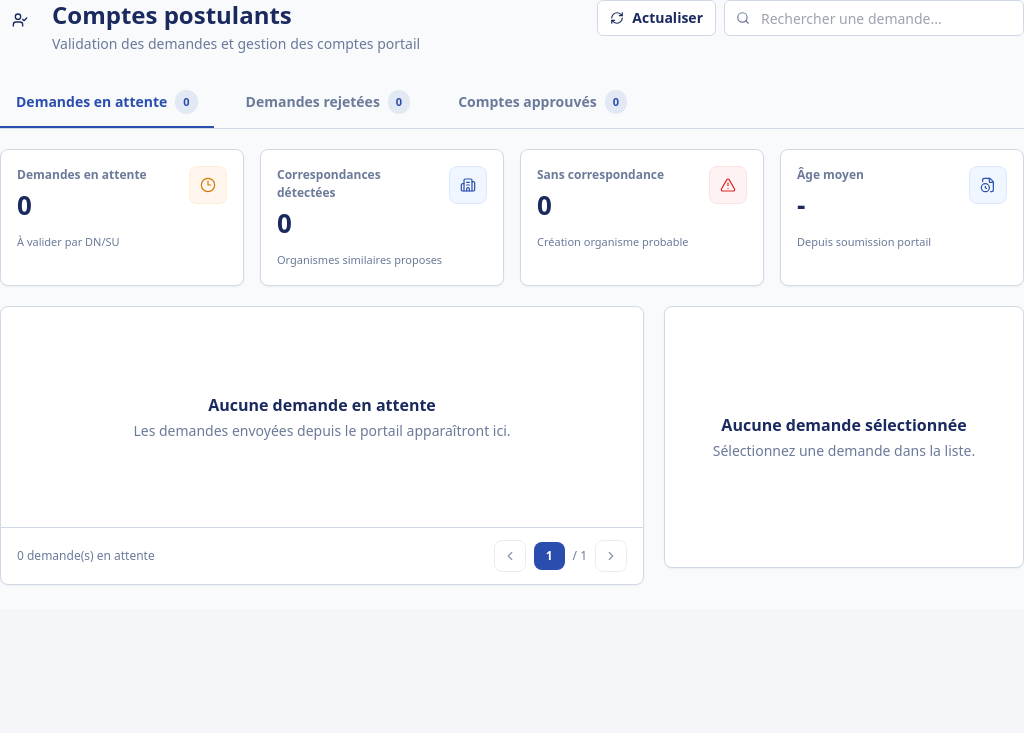
Test: <AccountRequestsPage> approved account edit › shows the account information section with an enabled « Modifier »
The image size is (1024, 733).
Step 1. Click the button "Comptes approuvés 0" → (543, 103), box [442,78,643,128]
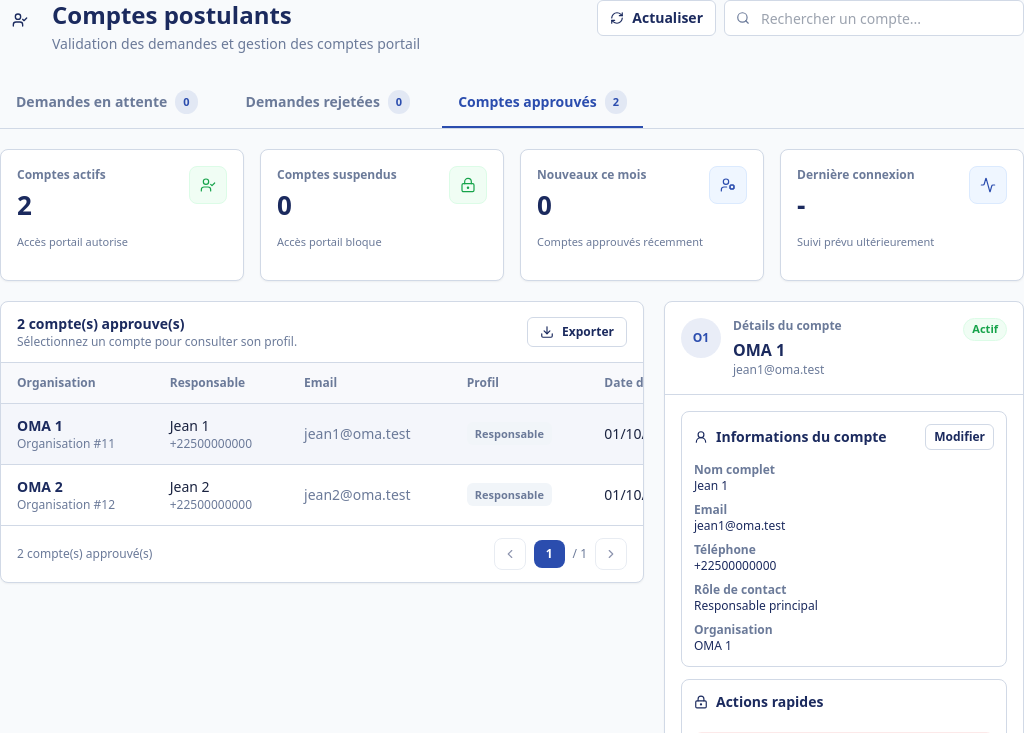
Result: the button "Modifier" is enabled at [925,424,994,450]
Result: the heading "Informations du compte" is shown at [694,427,887,447]
